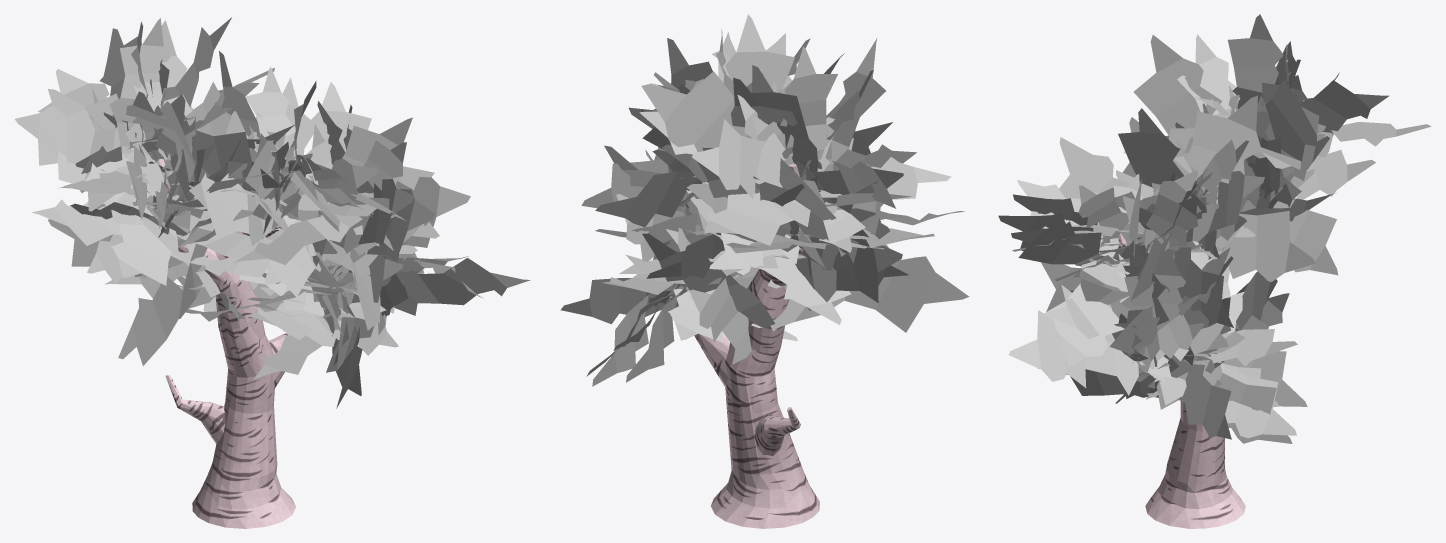
The model's file is Tree 2.fbx.
3 renders of one model, left to right at view 1: azimuth 30°, elevation 25°; view 2: azimuth 150°, elevation 25°; view 3: azimuth 270°, elevation 25°, orthographic. The views are drawn at different scales.
Visible parts, largest first — view 1: Tree 2, Tree 2|Branch|Dupli|113, Tree 2|Branch|Dupli|57, Tree 2|Branch|Dupli|229, Tree 2|Branch|Dupli|82, Tree 2|Branch|Dupli|171, Tree 2|Branch|Dupli|54, Tree 2|Branch|Dupli|153, Tree 2|Branch|Dupli|64, Tree 2|Branch|Dupli|142, Tree 2|Branch|Dupli|195, Tree 2|Branch|Dupli|212 (+45 smaller); view 2: Tree 2, Tree 2|Branch|Dupli|44, Tree 2|Branch|Dupli|113, Tree 2|Branch|Dupli|56, Tree 2|Branch|Dupli|58, Tree 2|Branch|Dupli|10, Tree 2|Branch|Dupli|52, Tree 2|Branch|Dupli|123, Tree 2|Branch|Dupli|2, Tree 2|Branch|Dupli|57, Tree 2|Branch|Dupli|, Tree 2|Branch|Dupli|167 (+35 smaller); view 3: Tree 2, Tree 2|Branch|Dupli|23, Tree 2|Branch|Dupli|123, Tree 2|Branch|Dupli|229, Tree 2|Branch|Dupli|141, Tree 2|Branch|Dupli|176, Tree 2|Branch|Dupli|52, Tree 2|Branch|Dupli|144, Tree 2|Branch|Dupli|44, Tree 2|Branch|Dupli|167, Tree 2|Branch|Dupli|215, Tree 2|Branch|Dupli|245 (+40 smaller).
Part boxes in pixels (bbox=[...]): Tree 2: bbox=[155, 159, 295, 528]; Tree 2|Branch|Dupli|113: bbox=[118, 244, 207, 365]; Tree 2|Branch|Dupli|57: bbox=[14, 105, 130, 165]; Tree 2|Branch|Dupli|229: bbox=[394, 258, 530, 315]; Tree 2|Branch|Dupli|82: bbox=[111, 197, 178, 285]; Tree 2|Branch|Dupli|171: bbox=[189, 173, 273, 245]; Tree 2|Branch|Dupli|54: bbox=[109, 18, 170, 146]; Tree 2|Branch|Dupli|153: bbox=[232, 214, 362, 264]; Tree 2|Branch|Dupli|64: bbox=[183, 115, 281, 191]; Tree 2|Branch|Dupli|142: bbox=[330, 179, 414, 253]; Tree 2|Branch|Dupli|195: bbox=[245, 66, 295, 159]; Tree 2|Branch|Dupli|212: bbox=[253, 329, 335, 379]; Tree 2: bbox=[694, 163, 819, 528]; Tree 2|Branch|Dupli|44: bbox=[641, 71, 752, 152]; Tree 2|Branch|Dupli|113: bbox=[831, 244, 969, 332]; Tree 2|Branch|Dupli|56: bbox=[692, 119, 789, 198]; Tree 2|Branch|Dupli|58: bbox=[704, 192, 810, 245]; Tree 2|Branch|Dupli|10: bbox=[795, 229, 902, 302]; Tree 2|Branch|Dupli|52: bbox=[780, 46, 837, 165]; Tree 2|Branch|Dupli|123: bbox=[595, 171, 708, 227]; Tree 2|Branch|Dupli|2: bbox=[642, 233, 775, 327]; Tree 2|Branch|Dupli|57: bbox=[796, 160, 903, 213]; Tree 2|Branch|Dupli|: bbox=[689, 278, 751, 364]; Tree 2|Branch|Dupli|167: bbox=[725, 14, 794, 92]; Tree 2: bbox=[1118, 233, 1245, 528]; Tree 2|Branch|Dupli|23: bbox=[1133, 35, 1221, 135]; Tree 2|Branch|Dupli|123: bbox=[1221, 211, 1316, 281]; Tree 2|Branch|Dupli|229: bbox=[1008, 310, 1138, 395]; Tree 2|Branch|Dupli|141: bbox=[1044, 258, 1129, 367]; Tree 2|Branch|Dupli|176: bbox=[1186, 95, 1260, 204]; Tree 2|Branch|Dupli|52: bbox=[1227, 14, 1283, 108]; Tree 2|Branch|Dupli|144: bbox=[1011, 221, 1143, 266]; Tree 2|Branch|Dupli|44: bbox=[1257, 80, 1319, 162]; Tree 2|Branch|Dupli|167: bbox=[1118, 108, 1183, 187]; Tree 2|Branch|Dupli|215: bbox=[1160, 363, 1296, 438]; Tree 2|Branch|Dupli|245: bbox=[1178, 364, 1231, 439].
Size of the model in its own units: 428 by 518 by 441.
